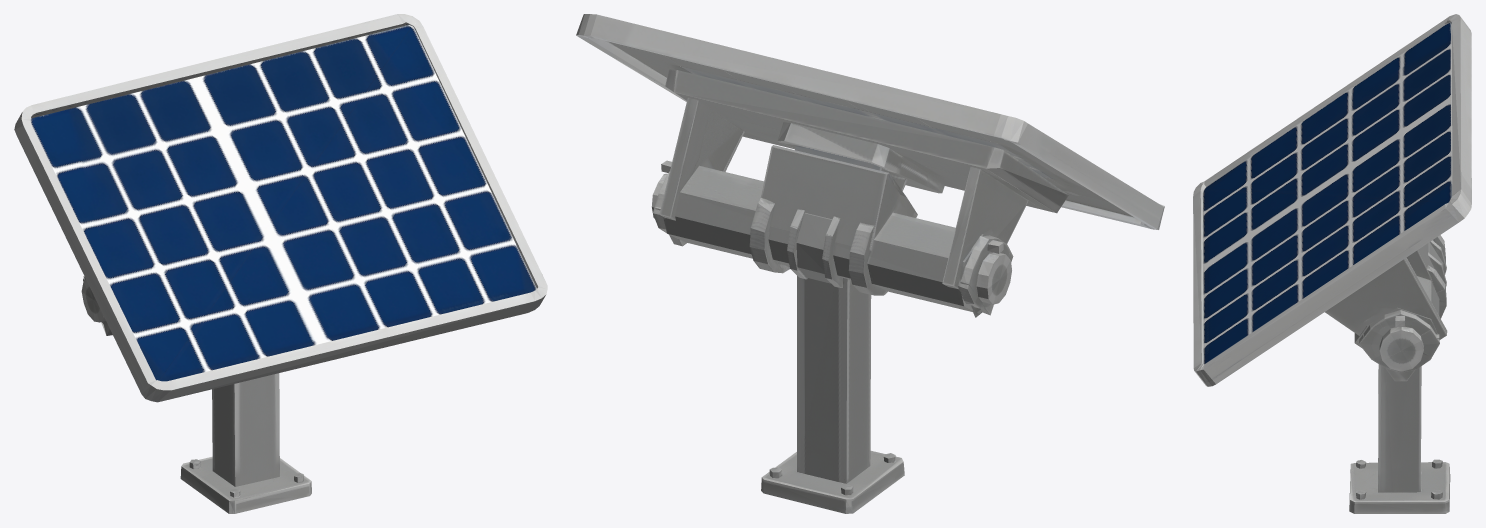
Rendered from Panel solar.fbx.
3 renders of one model, left to right at view 1: azimuth 30°, elevation 25°; view 2: azimuth 150°, elevation 25°; view 3: azimuth 270°, elevation 25°, orthographic. The views are drawn at different scales.
Visible parts, largest first — view 1: model_part1, model_part0, model_part16, model_part12; view 2: model_part0, model_part16, model_part7, model_part2, model_part9, model_part1, model_part8, model_part23, model_part12, model_part11, model_part18, model_part22 (+5 smaller); view 3: model_part1, model_part0, model_part16, model_part23, model_part12, model_part25, model_part26, model_part7, model_part9, model_part22.
Part boxes in pixels (left/top/right/bottom): model_part1: left=30, top=25, right=536, bottom=381; model_part0: left=14, top=14, right=547, bottom=402; model_part16: left=212, top=373, right=279, bottom=486; model_part12: left=180, top=456, right=311, bottom=513; model_part0: left=576, top=14, right=1164, bottom=229; model_part16: left=797, top=276, right=871, bottom=483; model_part7: left=664, top=165, right=985, bottom=313; model_part2: left=665, top=69, right=1068, bottom=213; model_part9: left=760, top=145, right=917, bottom=250; model_part1: left=608, top=41, right=1134, bottom=217; model_part8: left=942, top=167, right=1028, bottom=288; model_part23: left=659, top=98, right=744, bottom=220; model_part12: left=761, top=450, right=904, bottom=513; model_part11: left=777, top=122, right=944, bottom=193; model_part18: left=796, top=213, right=832, bottom=283; model_part22: left=749, top=198, right=789, bottom=273; model_part1: left=1203, top=22, right=1452, bottom=364; model_part0: left=1193, top=14, right=1471, bottom=386; model_part16: left=1378, top=364, right=1421, bottom=492; model_part23: left=1325, top=257, right=1447, bottom=339; model_part12: left=1349, top=462, right=1450, bottom=513; model_part25: left=1359, top=310, right=1439, bottom=372; model_part26: left=1379, top=327, right=1423, bottom=371; model_part7: left=1354, top=276, right=1439, bottom=358; model_part9: left=1406, top=240, right=1434, bottom=278; model_part22: left=1425, top=265, right=1446, bottom=318.
Size of the model in its own units: 12.44 by 12 by 7.74.
Materials: 1 (1 with a texture image).
